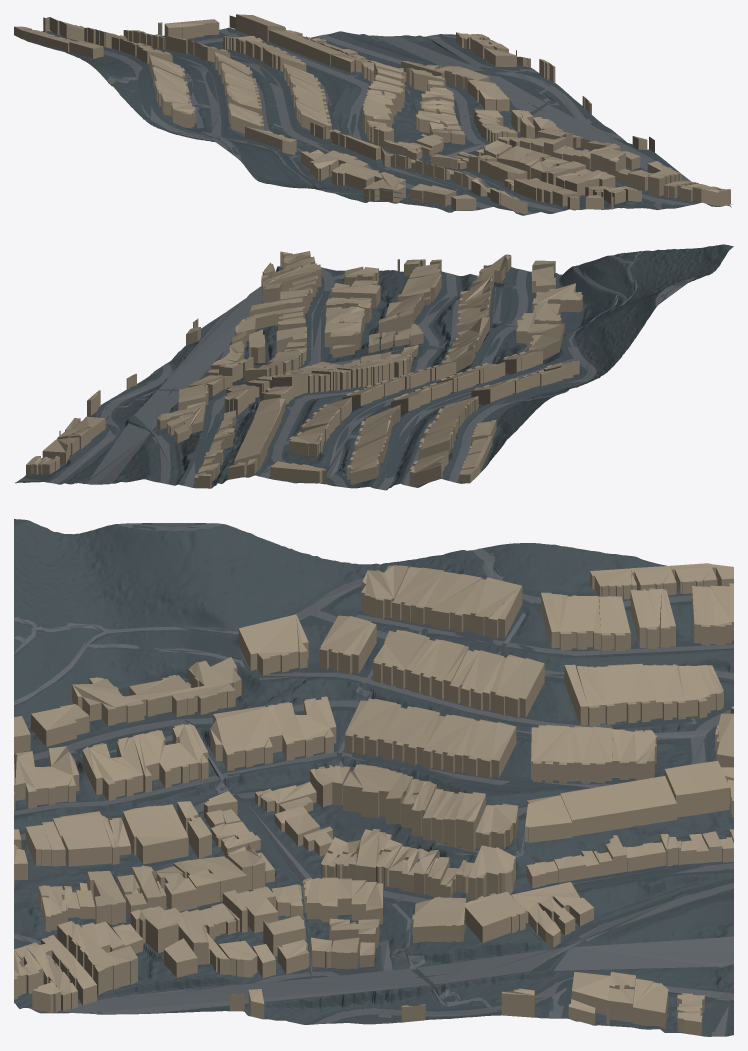
The model's file is epsg26910-1429-10881.lod0.glb.
3 renders of one model, top to bottom at view 1: azimuth 30°, elevation 25°; view 2: azimuth 150°, elevation 25°; view 3: azimuth 270°, elevation 25°, orthographic. The views are drawn at different scales.
Parts seen in each view (by area): view 1: epsg26910-1429-10881-lod0; view 2: epsg26910-1429-10881-lod0; view 3: epsg26910-1429-10881-lod0.
Part boxes in pixels (<box>): epsg26910-1429-10881-lod0: <box>14,14,732,215</box>; epsg26910-1429-10881-lod0: <box>15,244,733,490</box>; epsg26910-1429-10881-lod0: <box>14,519,733,1036</box>.
Bounding box in the file's own units: 384 × 126 × 384.
